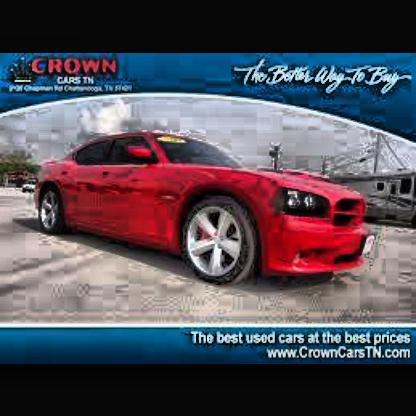Dodge Charger SRT-8 2009: (31, 127, 381, 292)
